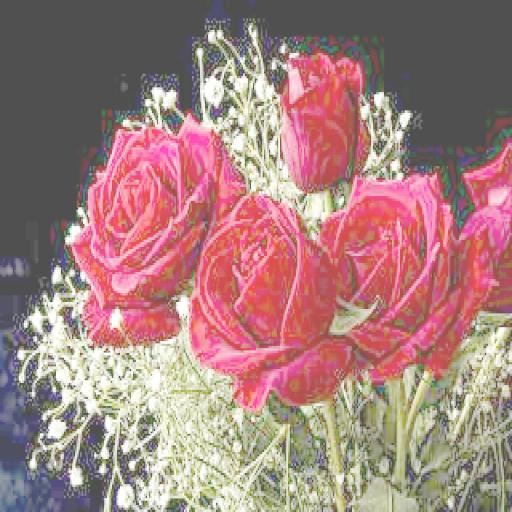rose: (72, 116, 238, 342), (189, 196, 349, 411), (317, 171, 467, 378), (282, 53, 371, 196), (461, 138, 512, 320)
